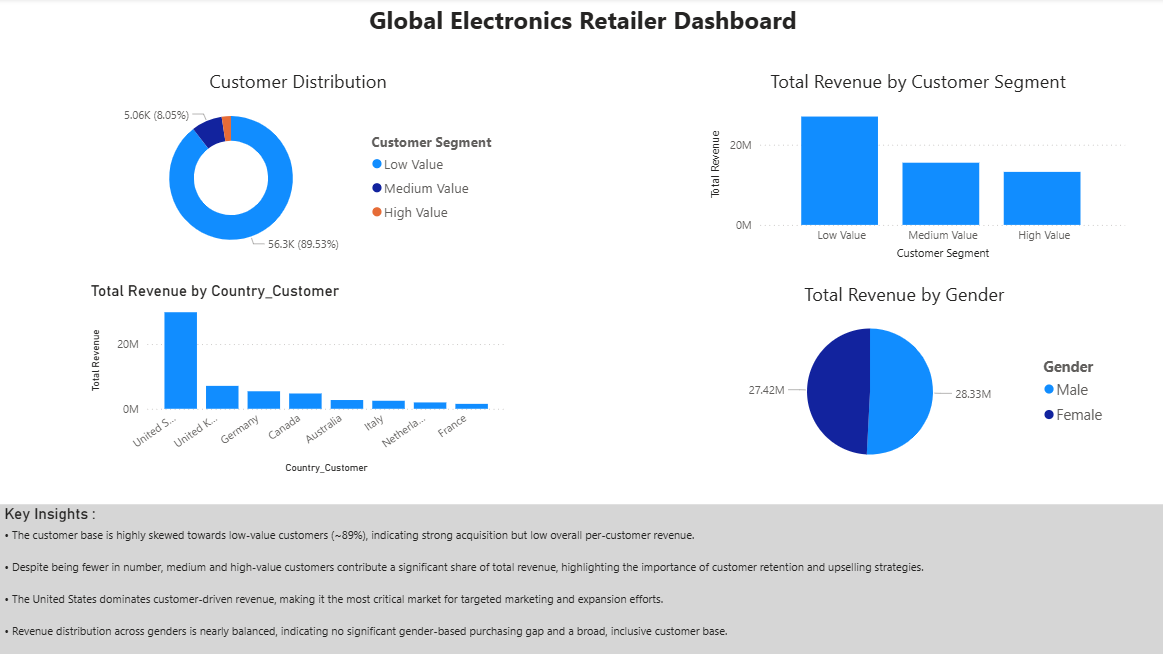

What the dashboard file says about the page in this screenshot:
{"tool":"powerbi","page":{"name":"Page 3","canvas":[1280,720],"ordinal":2},"visuals":[{"type":"textbox","box":[340.2,0,599.7,52.1],"z":0},{"type":"donutChart","title":"Customer Distribution","fields":{"Category":["Global_Electronics_Retailers_master_dataset.Customer Segment"],"Y":["CountNonNull(Global_Electronics_Retailers_master_dataset.CustomerKey)"]},"box":[94.7,76.8,465.2,215.4],"z":1000},{"type":"clusteredColumnChart","fields":{"Y":["Global_Electronics_Retailers_master_dataset.Total Revenue"],"Category":["Global_Electronics_Retailers_master_dataset.Customer Segment"]},"box":[775.3,76.8,465.2,215.4],"z":2000},{"type":"pieChart","fields":{"Category":["Global_Electronics_Retailers_master_dataset.Gender"],"Y":["Global_Electronics_Retailers_master_dataset.Total Revenue"]},"box":[760.2,311.5,465.2,215],"z":3000},{"type":"columnChart","fields":{"Y":["Global_Electronics_Retailers_master_dataset.Total Revenue"],"Category":["Global_Electronics_Retailers_master_dataset.Country_Customer"]},"box":[94.7,311.5,465.2,215.4],"z":4000},{"type":"textbox","title":"Key Insights :","box":[0,555.7,1280.3,164.7],"z":5001}]}

Visuals, with their boxes in screenshot pixels (x1, y1, x2, y2), scaled from the page's 1280x720 canvas onto the 1163x654 screenshot:
textbox: 309, 0, 854, 47
"Customer Distribution" donutChart: 86, 70, 509, 265
clusteredColumnChart - Global_Electronics_Retailers_master_dataset.Total Revenue x Global_Electronics_Retailers_master_dataset.Customer Segment: 704, 70, 1127, 265
pieChart - Global_Electronics_Retailers_master_dataset.Gender x Global_Electronics_Retailers_master_dataset.Total Revenue: 691, 283, 1113, 478
columnChart - Global_Electronics_Retailers_master_dataset.Total Revenue x Global_Electronics_Retailers_master_dataset.Country_Customer: 86, 283, 509, 479
"Key Insights :" textbox: 0, 505, 1162, 653
